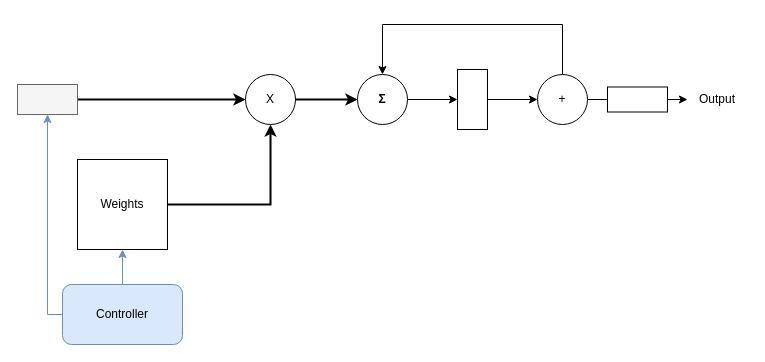
Some shapes in this 765 by 362 pixel diagram are drawn without their labels. The box of each missing label's shape, as (x1, y1, x2, y2) in pixels:
Activation: (606, 86, 668, 112)
Input: (16, 84, 78, 114)
